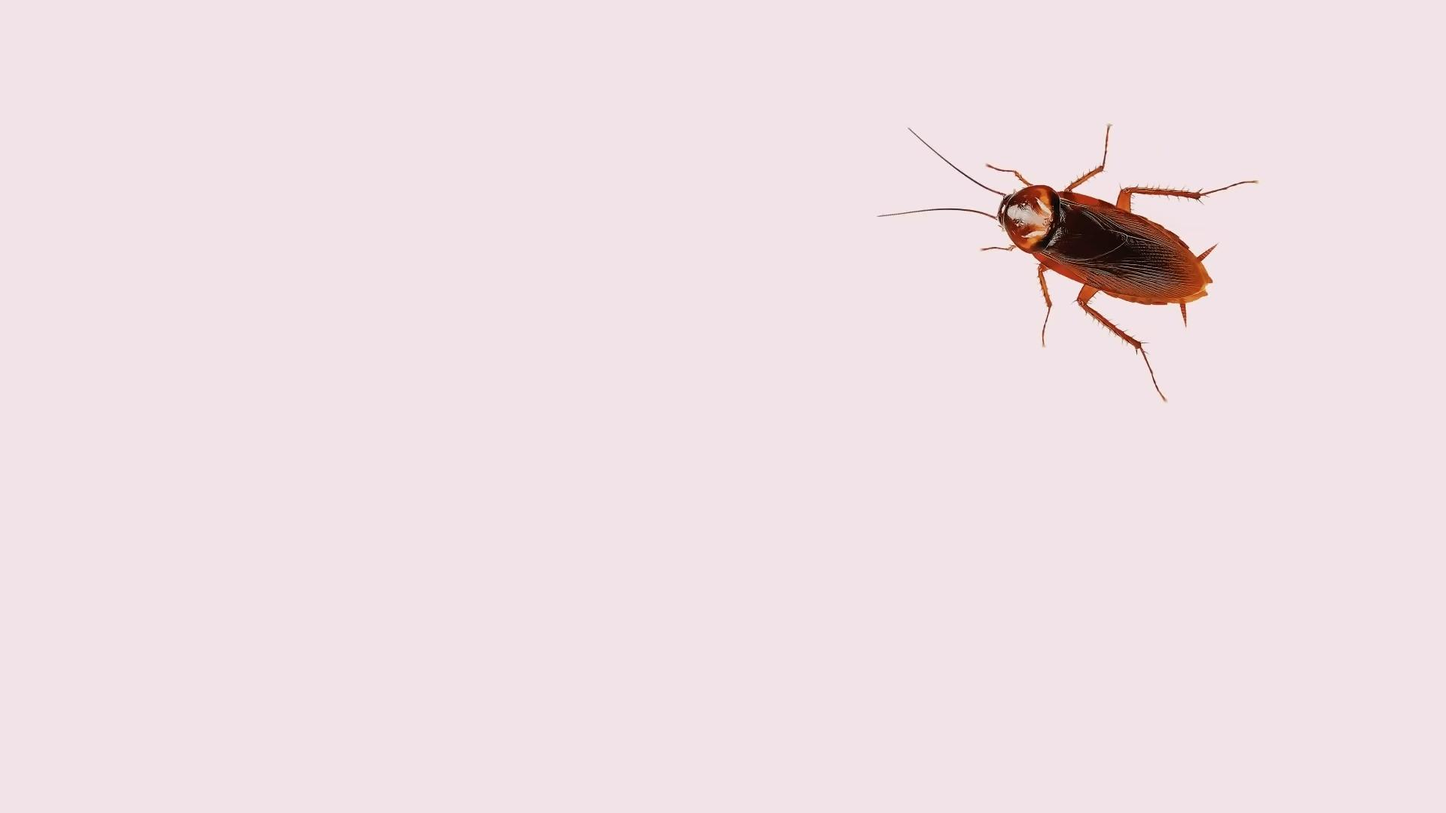cockroach: (854, 121, 1265, 407)
